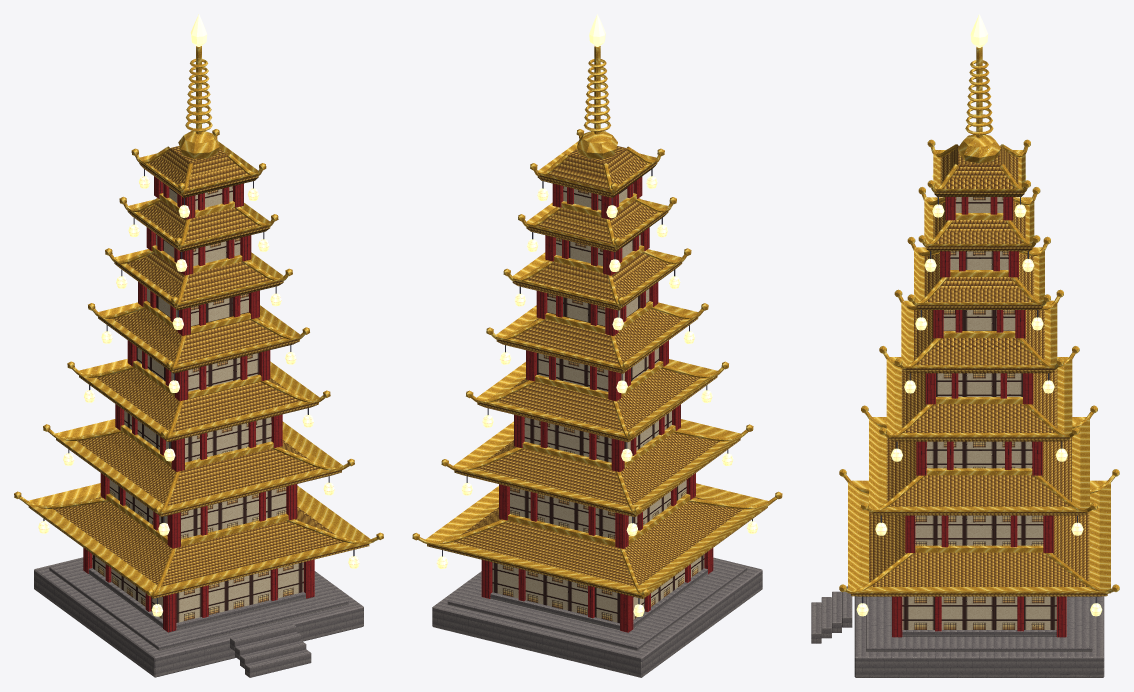
Rendered from johto_tower.glb.
The picture shows the model from 3 angles, left to right: view 1: azimuth 30°, elevation 25°; view 2: azimuth 150°, elevation 25°; view 3: azimuth 270°, elevation 25°; orthographic projection. The views are drawn at different scales.
Parts seen in each view (by area): view 1: Tower, Glow; view 2: Tower, Glow; view 3: Tower, Glow.
Part boxes in pixels (box(x1,y1,x2,y2)): Tower: box(14, 46, 383, 677); Glow: box(38, 14, 359, 616); Tower: box(412, 46, 782, 677); Glow: box(436, 14, 758, 616); Tower: box(811, 47, 1119, 677); Glow: box(856, 14, 1102, 616).
Size of the model in its own units: 19.13 by 46.15 by 21.
8 materials, 7 textured.
